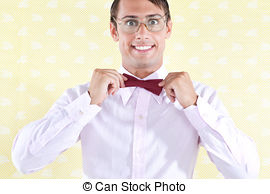face: (107, 1, 172, 69)
